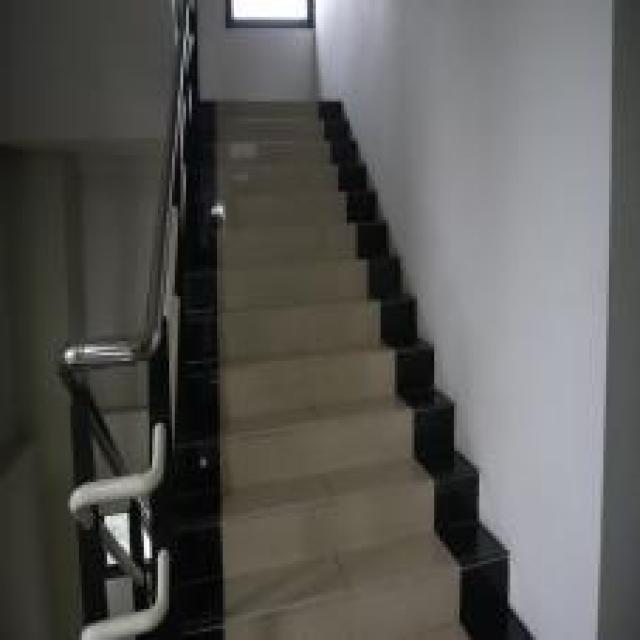upstair: (189, 136, 440, 632)
